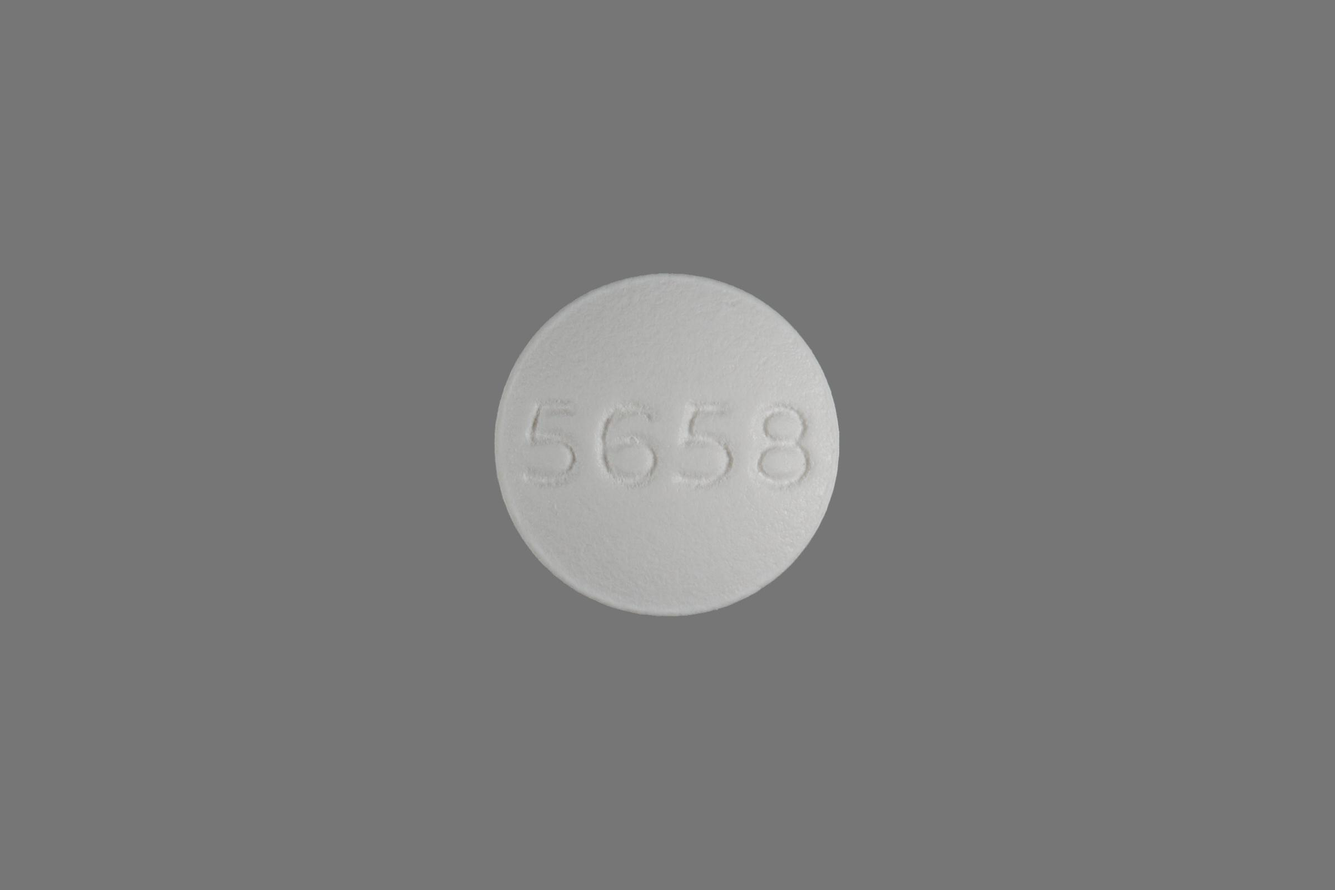Pill: (476, 257, 857, 634)
